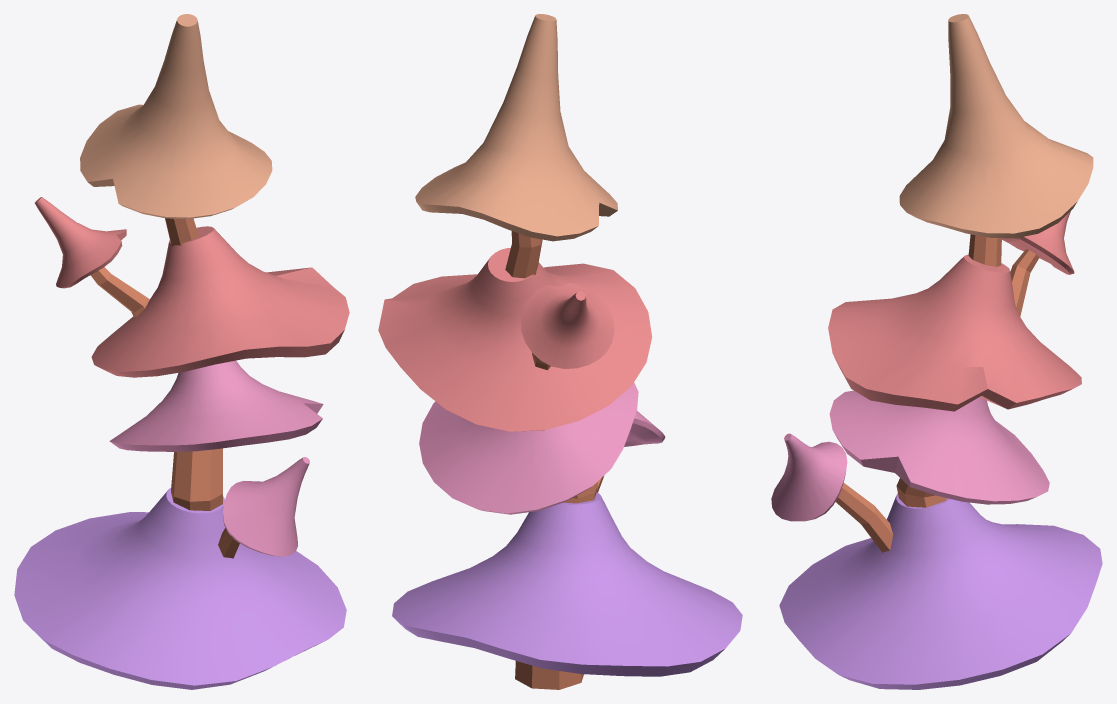
File: tree1.glb
3 renders of one model, left to right at view 1: azimuth 30°, elevation 25°; view 2: azimuth 150°, elevation 25°; view 3: azimuth 270°, elevation 25°, orthographic. The views are drawn at different scales.
Visible parts, largest first — view 1: Cylinder.042, Cylinder.044, Cylinder.045, Cylinder.043, Cylinder.046, Cylinder.040, Cylinder.048, Cylinder.047; view 2: Cylinder.042, Cylinder.044, Cylinder.045, Cylinder.043, Cylinder.048, Cylinder.040, Cylinder.046; view 3: Cylinder.042, Cylinder.044, Cylinder.045, Cylinder.043, Cylinder.046, Cylinder.048, Cylinder.040, Cylinder.041, Cylinder.047.
Part boxes in pixels (x1,y1,x2,y2): Cylinder.042: (14, 487, 346, 689); Cylinder.044: (91, 226, 349, 377); Cylinder.045: (80, 14, 272, 218); Cylinder.043: (109, 360, 323, 451); Cylinder.046: (223, 457, 309, 556); Cylinder.040: (165, 218, 222, 510); Cylinder.048: (34, 197, 126, 288); Cylinder.047: (90, 267, 149, 317); Cylinder.042: (392, 492, 742, 676); Cylinder.044: (378, 248, 652, 431); Cylinder.045: (415, 14, 617, 241); Cylinder.043: (419, 382, 638, 514); Cylinder.048: (520, 283, 614, 368); Cylinder.040: (505, 231, 597, 689); Cylinder.046: (624, 411, 665, 446); Cylinder.042: (779, 493, 1102, 689); Cylinder.044: (828, 254, 1081, 411); Cylinder.045: (899, 14, 1093, 238); Cylinder.043: (829, 390, 1049, 504); Cylinder.046: (771, 433, 847, 521); Cylinder.048: (1002, 211, 1074, 274); Cylinder.040: (896, 234, 1001, 507); Cylinder.041: (835, 483, 893, 552); Cylinder.047: (1010, 249, 1039, 316).
Size of the model in its own units: 10.19 by 20.24 by 9.32.
